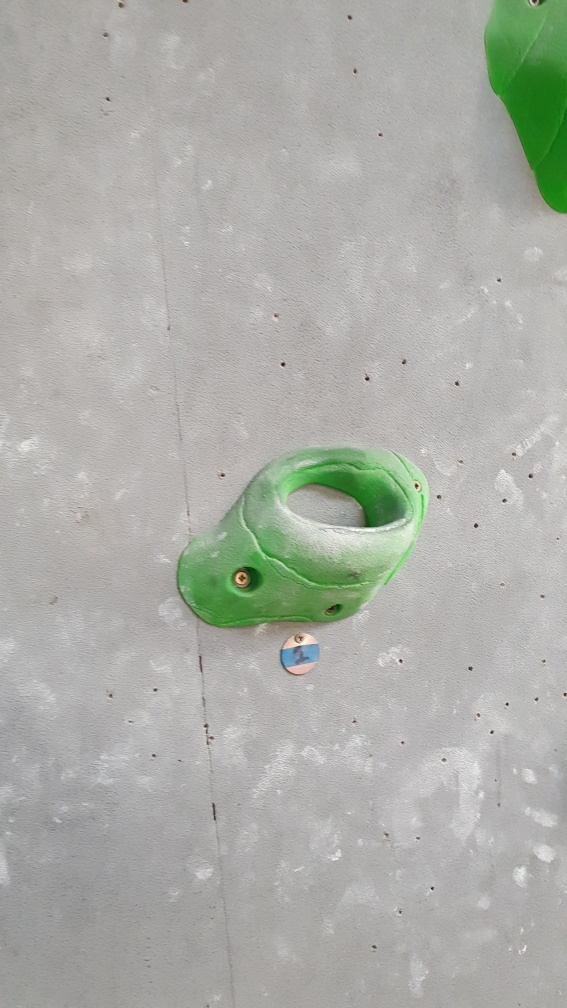Hand Start: (277, 632, 323, 676)
Pocket: (177, 439, 430, 633)
